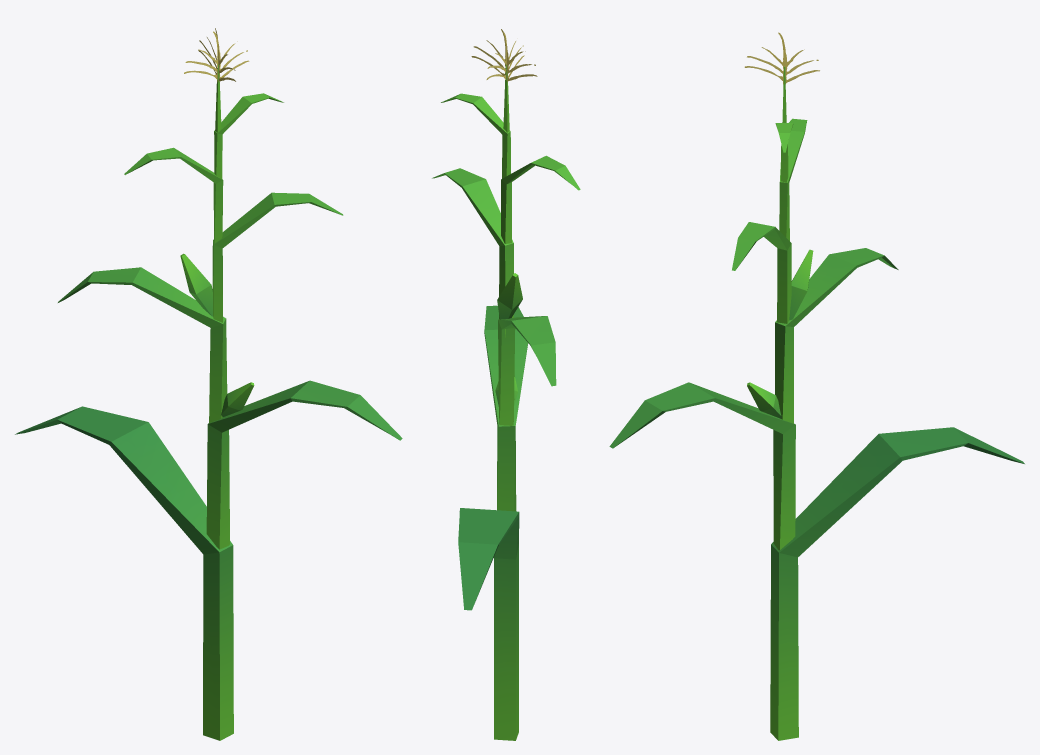
File: corn5.glb
3 renders of one model, left to right at view 1: azimuth 30°, elevation 25°; view 2: azimuth 150°, elevation 25°; view 3: azimuth 270°, elevation 25°, orthographic.
Parts seen in each view (by area): view 1: Corn5; view 2: Corn5; view 3: Corn5.
Part boxes in pixels (box(x1,y1,x2,y2)): Corn5: box(15, 28, 402, 740); Corn5: box(432, 29, 580, 740); Corn5: box(609, 32, 1024, 740).
Size of the model in its own units: 0.6369 by 2.09 by 1.12.
Materials: 1 (1 with a texture image).
